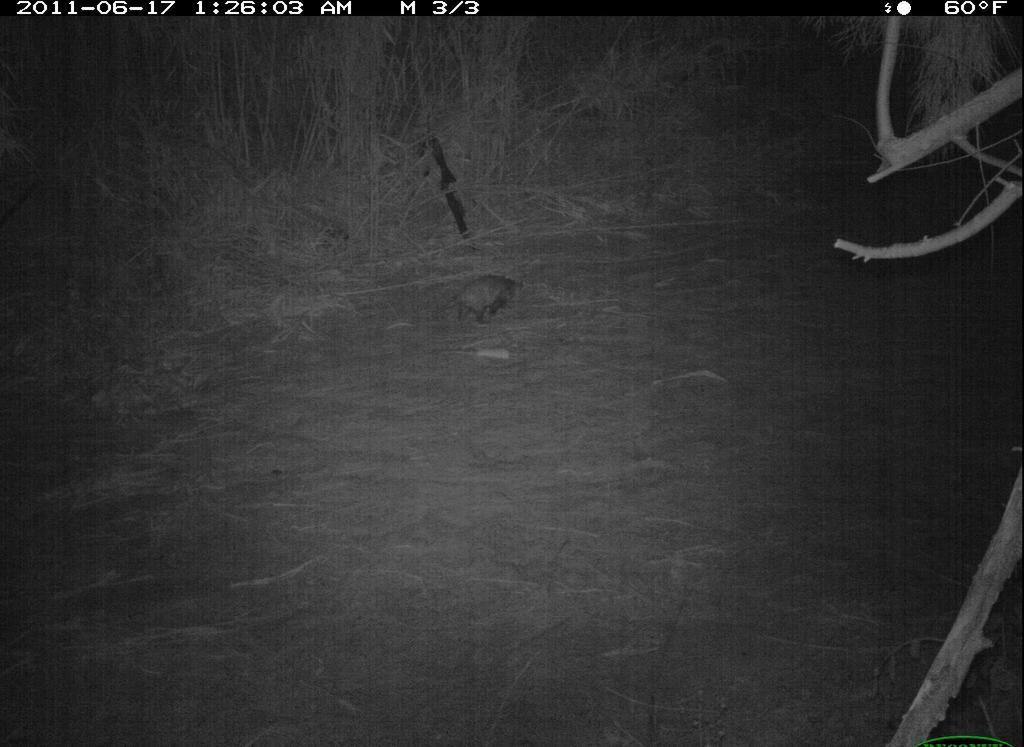opossum: (443, 267, 529, 338)
